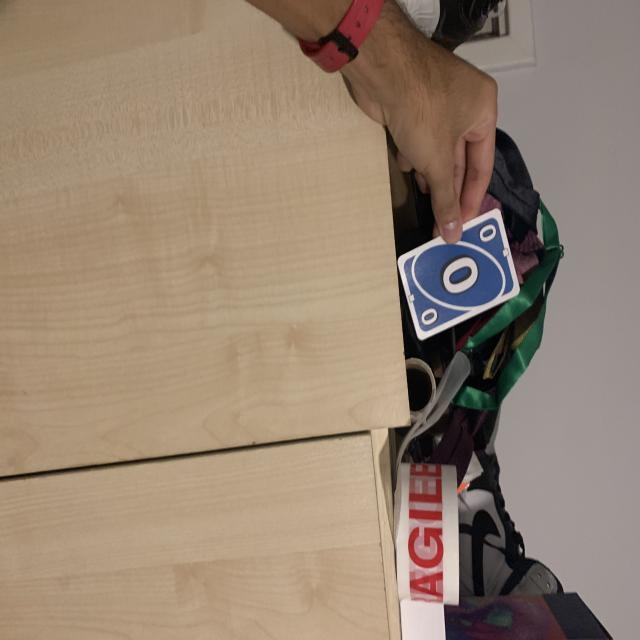lblue-0: (474, 218, 501, 246)
